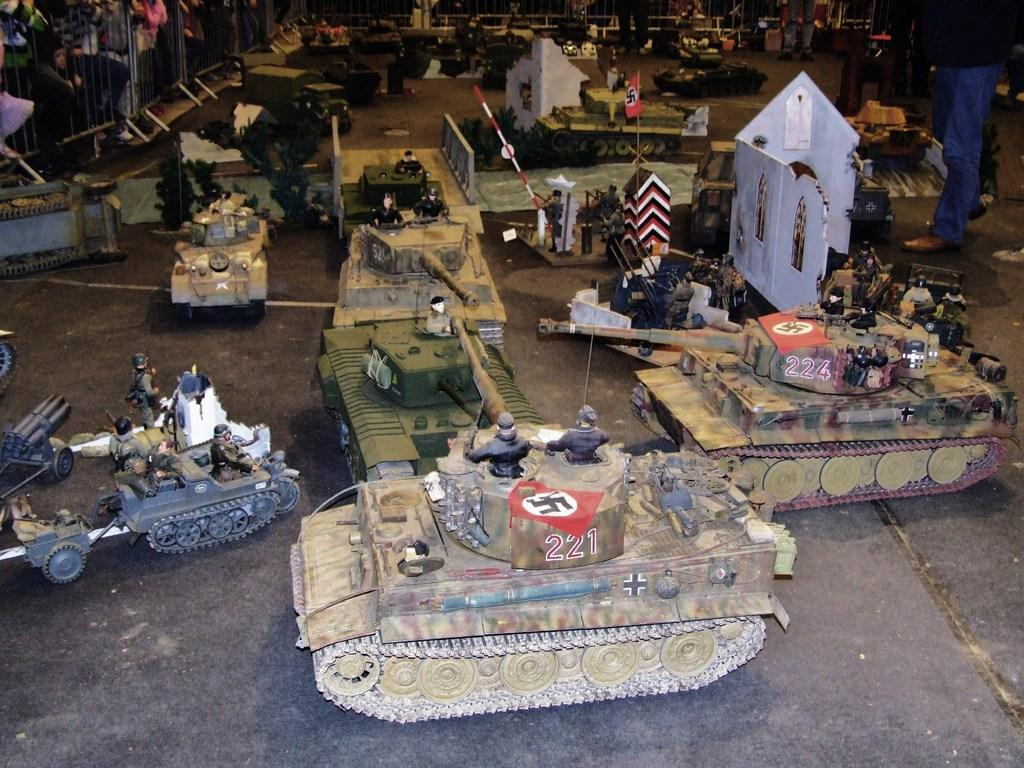Tank: (287, 282, 796, 726), (537, 266, 1017, 516), (310, 324, 548, 497), (328, 213, 508, 328), (148, 188, 270, 316)
